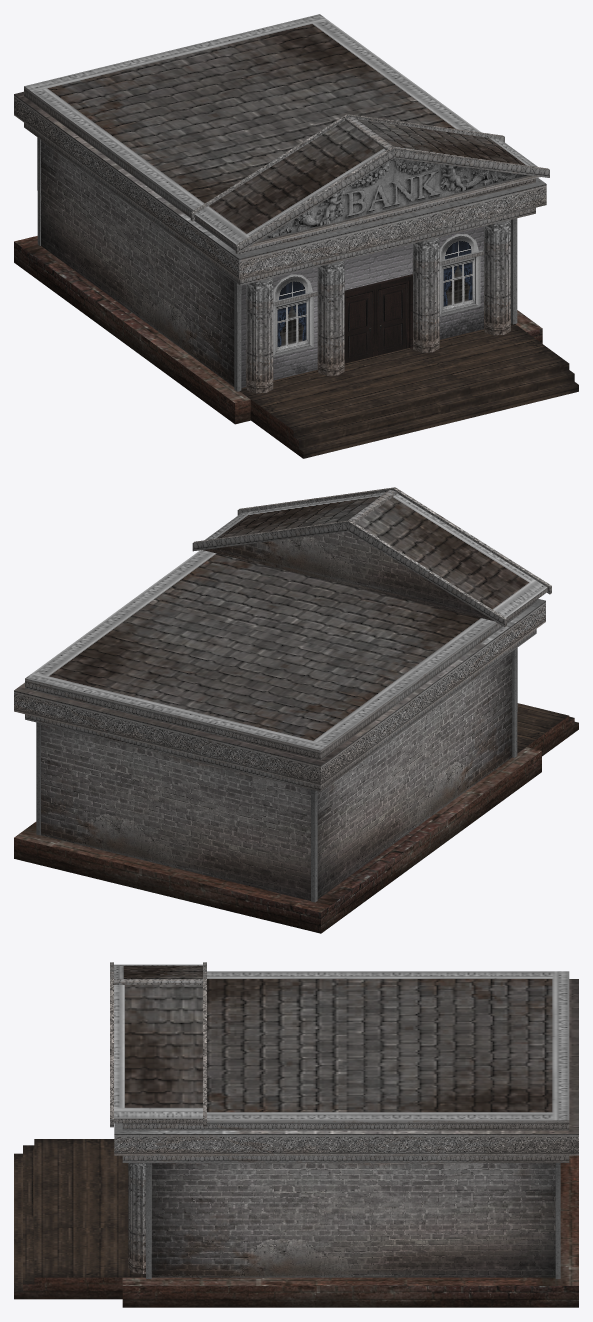
The model's file is Bank.fbx.
3 views of the same model, one above another, from view 1: azimuth 30°, elevation 25°; view 2: azimuth 150°, elevation 25°; view 3: azimuth 270°, elevation 25° (orthographic). The views are drawn at different scales.
Parts seen in each view (by area): view 1: Bank; view 2: Bank; view 3: Bank.
Boxes of the visible parts, bbox=[...] form: Bank: bbox=[14, 14, 578, 458]; Bank: bbox=[14, 487, 578, 933]; Bank: bbox=[14, 962, 578, 1307].
Size of the model in its own units: 9.22 by 6.86 by 13.99.
Materials: 1 (1 with a texture image).
